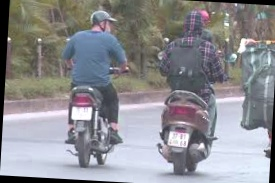Bien-so: (176, 125, 199, 143), (74, 112, 96, 129)
